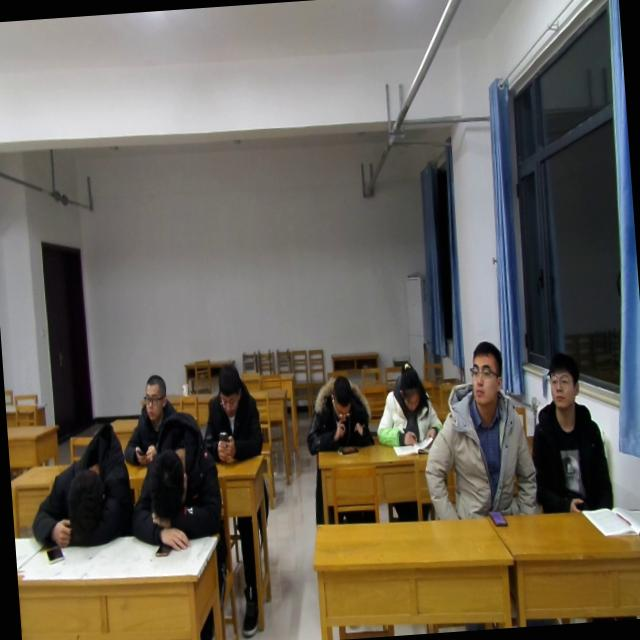bow: (24, 416, 138, 554), (128, 419, 229, 557)
down: (466, 332, 508, 404), (211, 355, 247, 417), (394, 358, 426, 417), (325, 372, 354, 424)
lookup: (541, 346, 581, 413), (139, 368, 170, 424)
sit: (415, 338, 543, 518), (523, 341, 618, 519), (198, 354, 268, 466), (299, 362, 373, 459), (370, 358, 442, 454), (116, 364, 180, 464)
